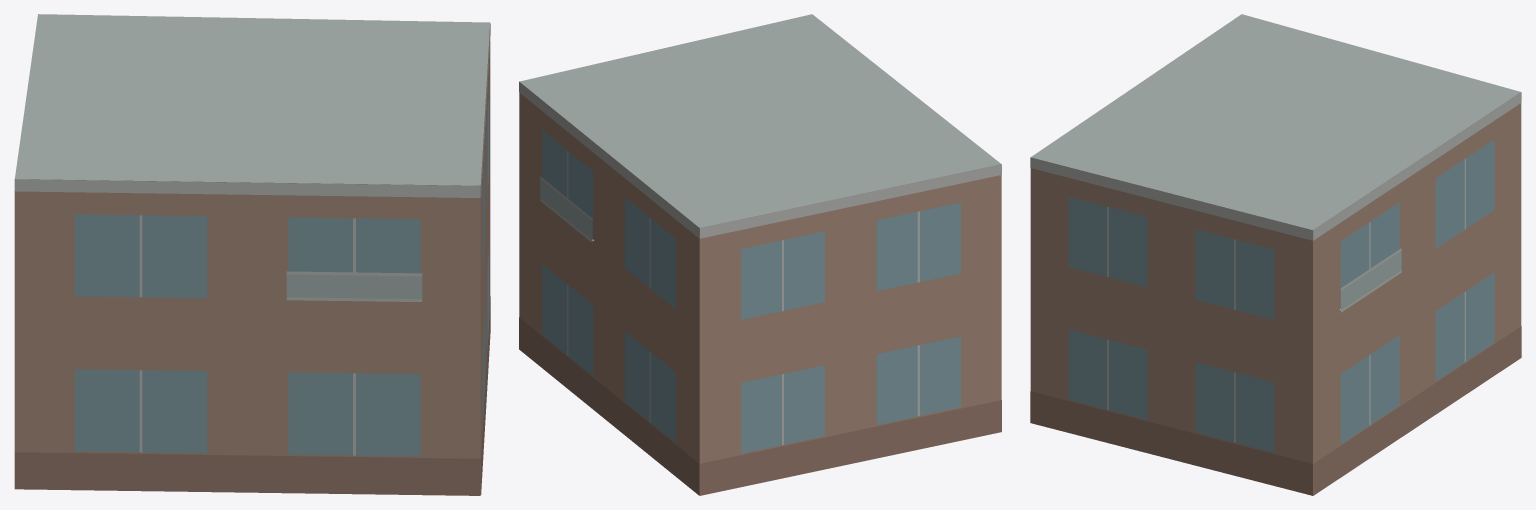
Rendered from survey-upis-33039508.glb.
3 views of the same model, side by side, from view 1: azimuth 30°, elevation 25°; view 2: azimuth 150°, elevation 25°; view 3: azimuth 270°, elevation 25° (orthographic). The views are drawn at different scales.
Visible parts, largest first — view 1: survey-upis-33039508.tmp; view 2: survey-upis-33039508.tmp; view 3: survey-upis-33039508.tmp.
Boxes of the visible parts, bbox=[...] form: survey-upis-33039508.tmp: bbox=[14, 14, 490, 495]; survey-upis-33039508.tmp: bbox=[519, 14, 1001, 495]; survey-upis-33039508.tmp: bbox=[1030, 14, 1521, 495].
Bounding box in the file's own units: 10.66 × 6.1 × 10.23.
